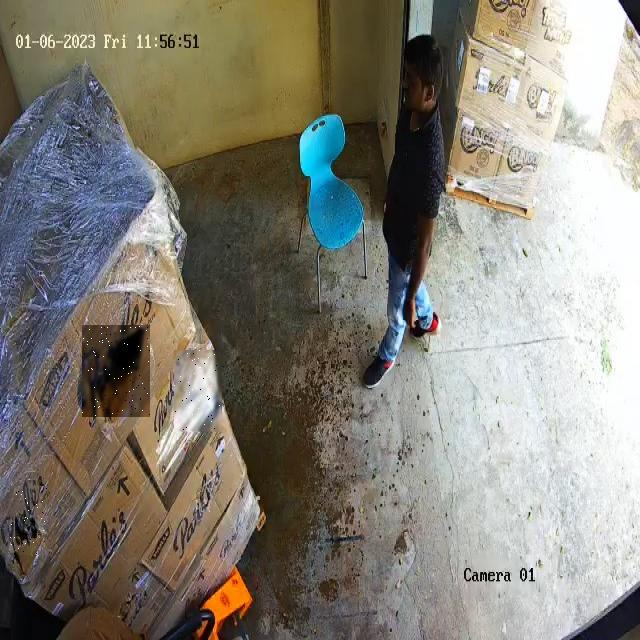leakage: (82, 326, 150, 416), (11, 486, 47, 554)
tear: (175, 351, 221, 431)
